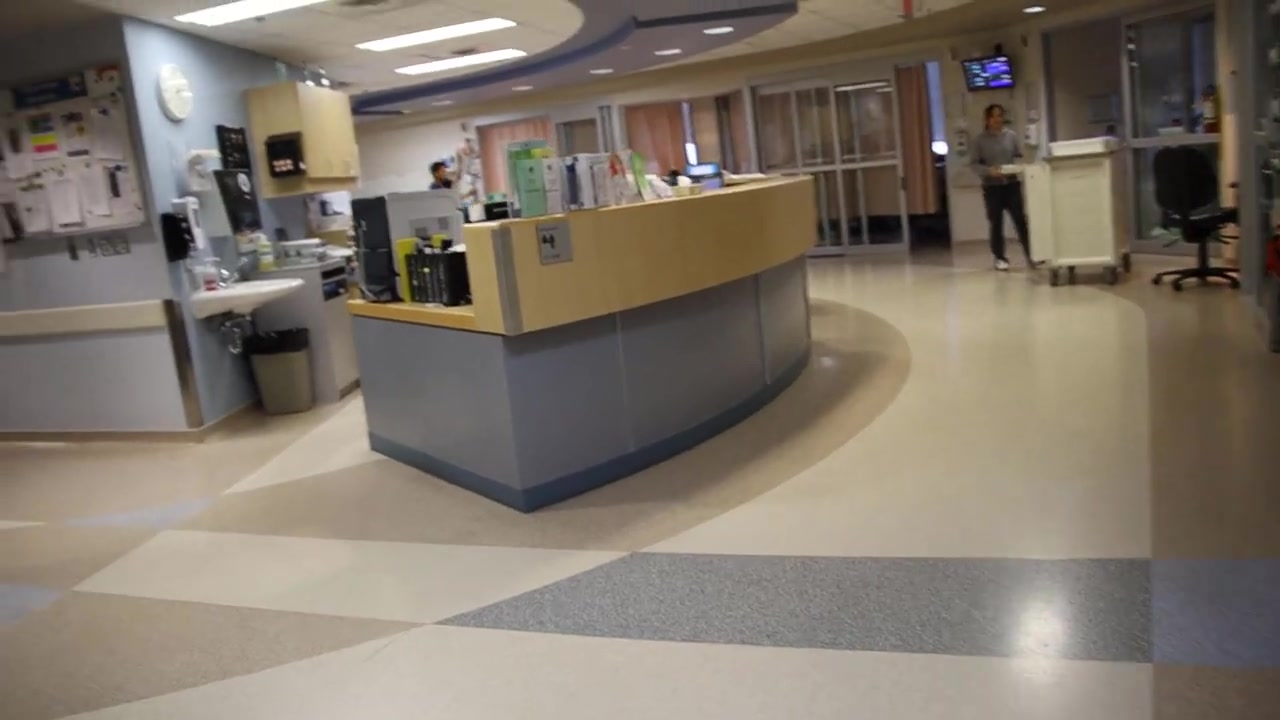TV: (960, 54, 1015, 91)
cabinet: (243, 80, 361, 194)
chair: (1151, 144, 1240, 292)
counter: (347, 170, 816, 513)
dispenser: (169, 197, 208, 250)
hallway_assist_bar: (1, 298, 162, 337)
handle: (326, 158, 336, 175), (345, 159, 355, 176)
sink: (190, 278, 306, 320)
visitor: (968, 103, 1046, 271)
waste_bin: (244, 328, 316, 415)
